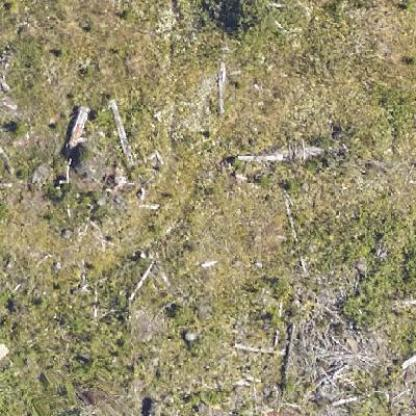tree-top: (68, 144, 90, 168)
